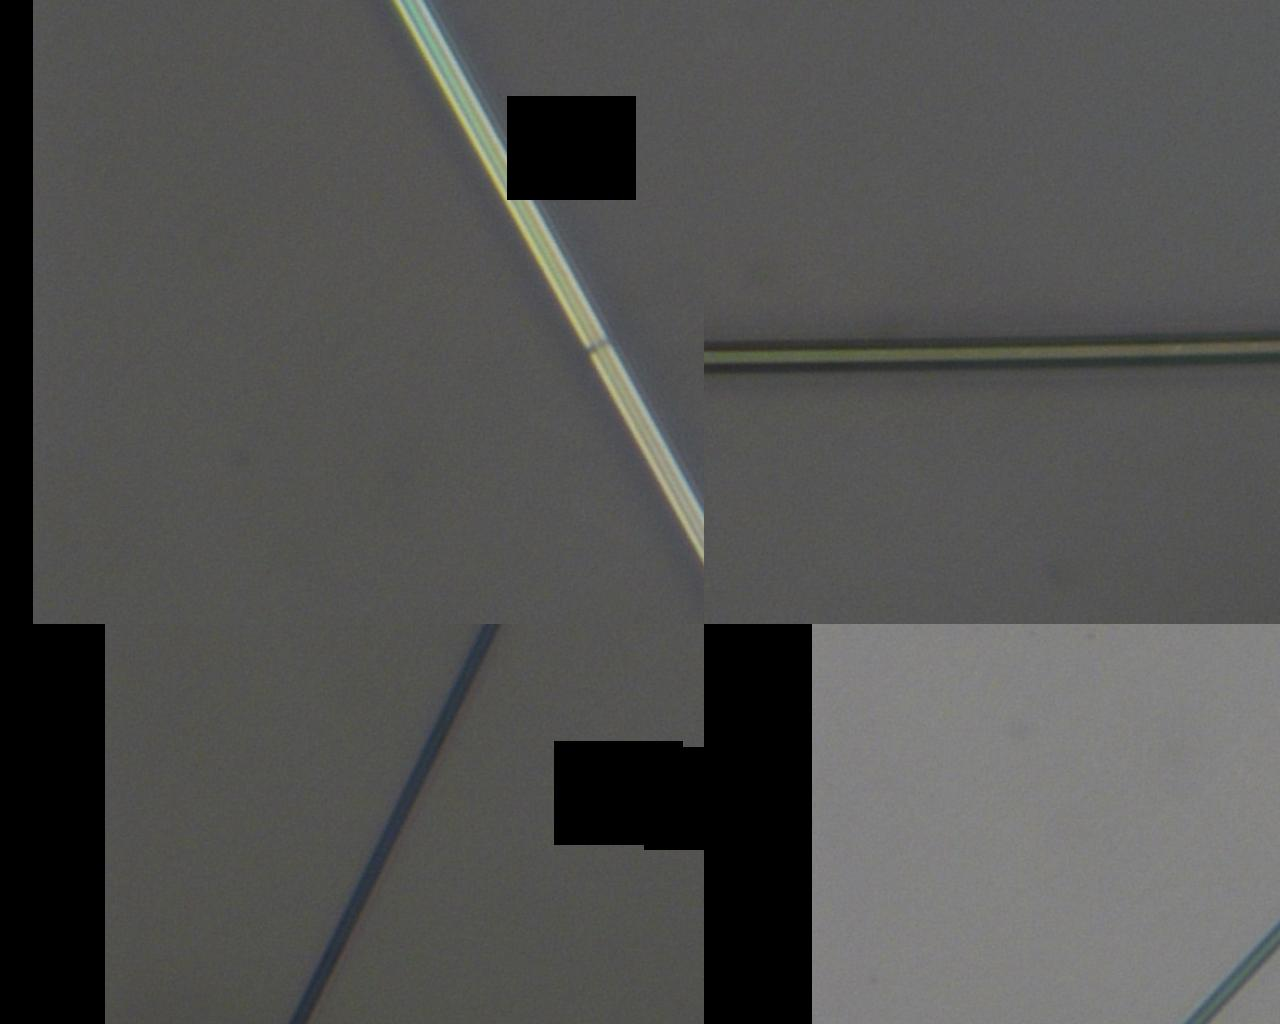fiber: (486, 289, 1280, 408), (486, 757, 1280, 798), (0, 400, 486, 450)
